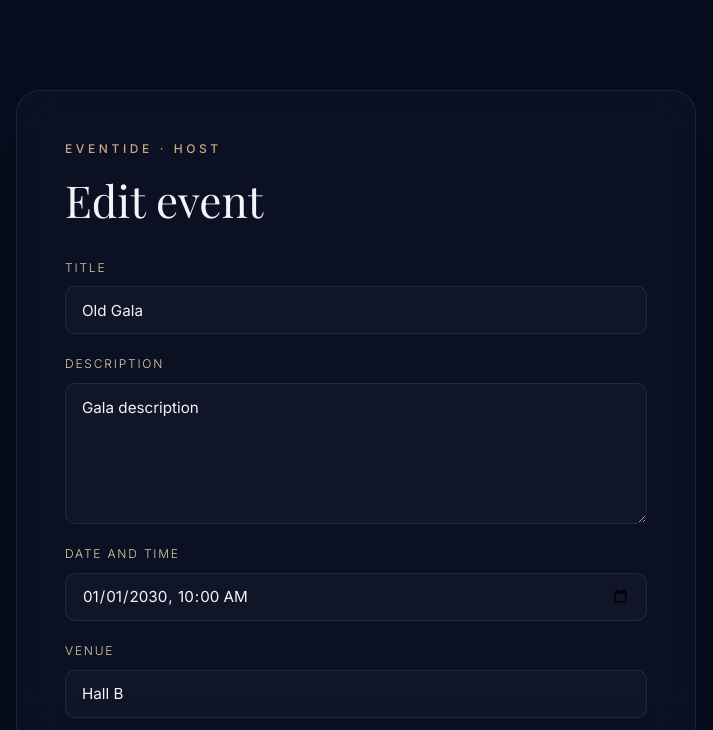
Test: EMS-FR-07 Edit event page › clearing a required field blocks the save
Clear the field labelled "Title" at (356, 310), box [65, 286, 647, 334]
(page scrolled)
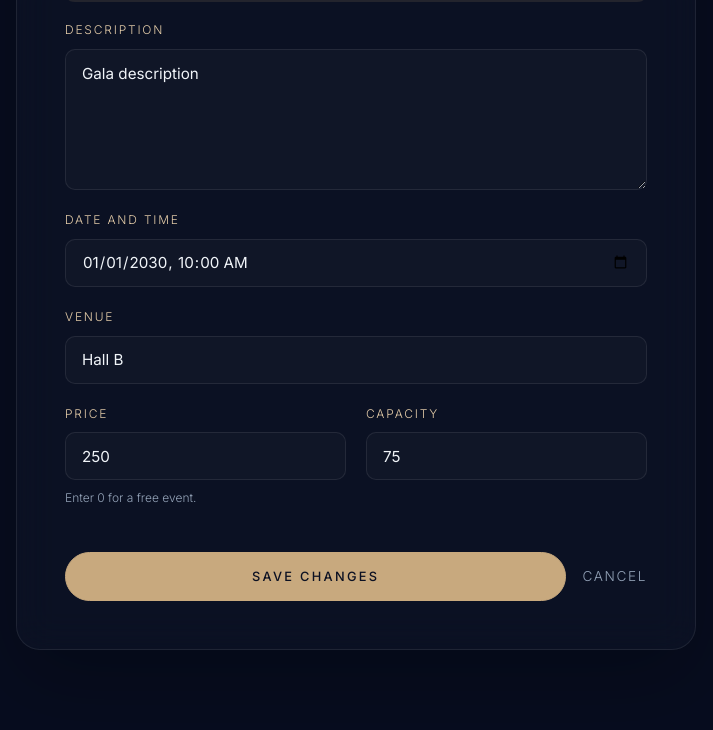
Click the button "Save changes" at (316, 577), box [65, 552, 566, 601]
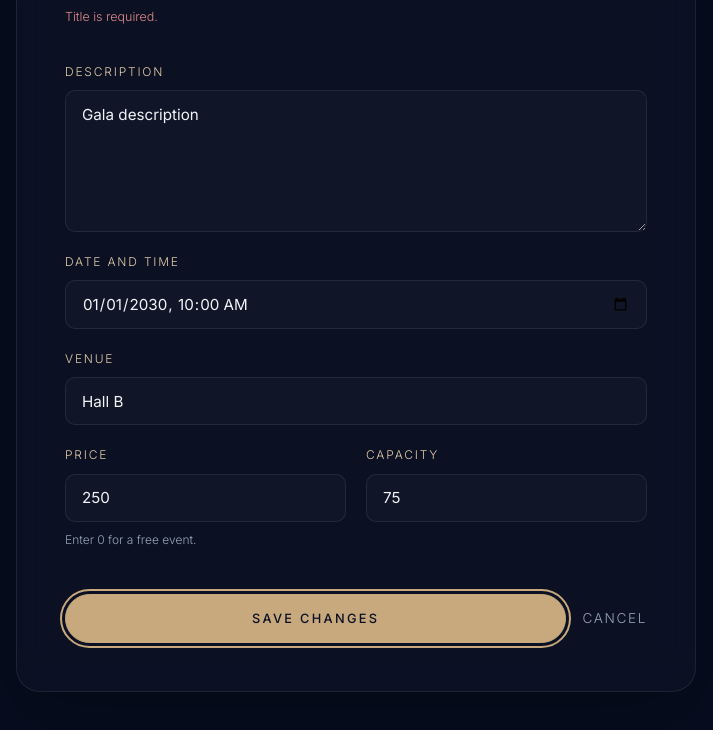
Expected: the text "Title is required." is shown, [65, 9, 158, 24]
